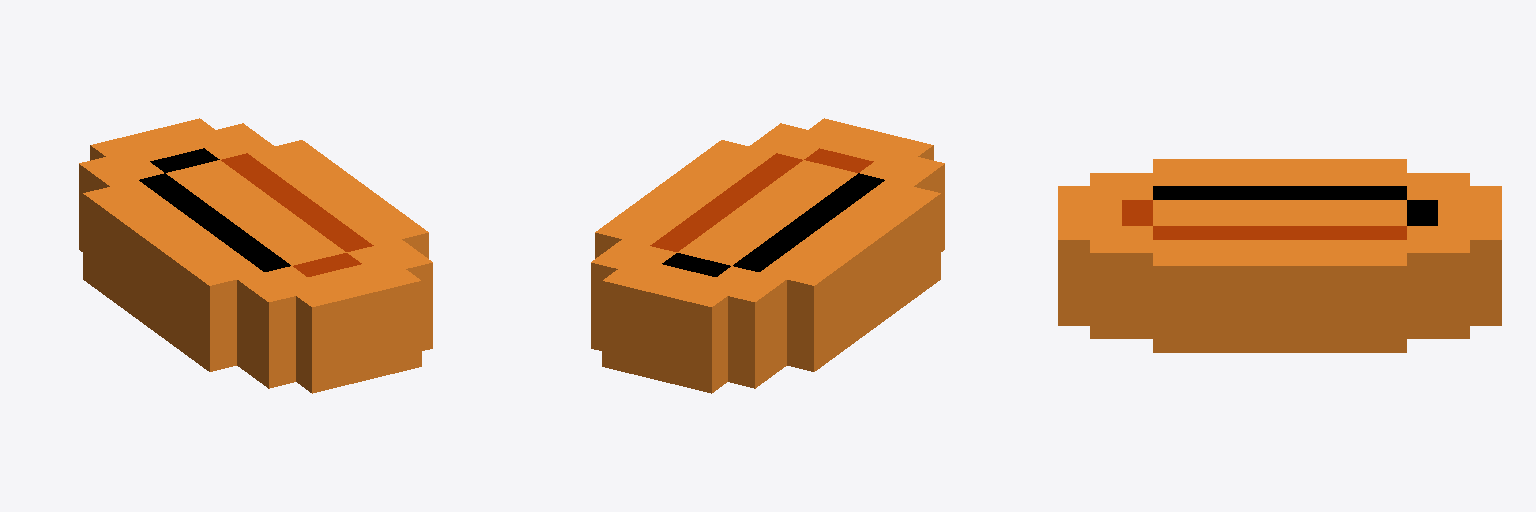
3 renders of one model, left to right at view 1: azimuth 30°, elevation 25°; view 2: azimuth 150°, elevation 25°; view 3: azimuth 270°, elevation 25°, orthographic.
Parts seen in each view (by area): view 1: coin_1; view 2: coin_1; view 3: coin_1.
Part boxes in pixels (left/top/right/bottom): coin_1: left=79, top=118, right=432, bottom=393; coin_1: left=591, top=118, right=944, bottom=393; coin_1: left=1058, top=159, right=1501, bottom=352.
Size of the model in its own units: 80 by 30 by 140.
1 materials, 1 textured.